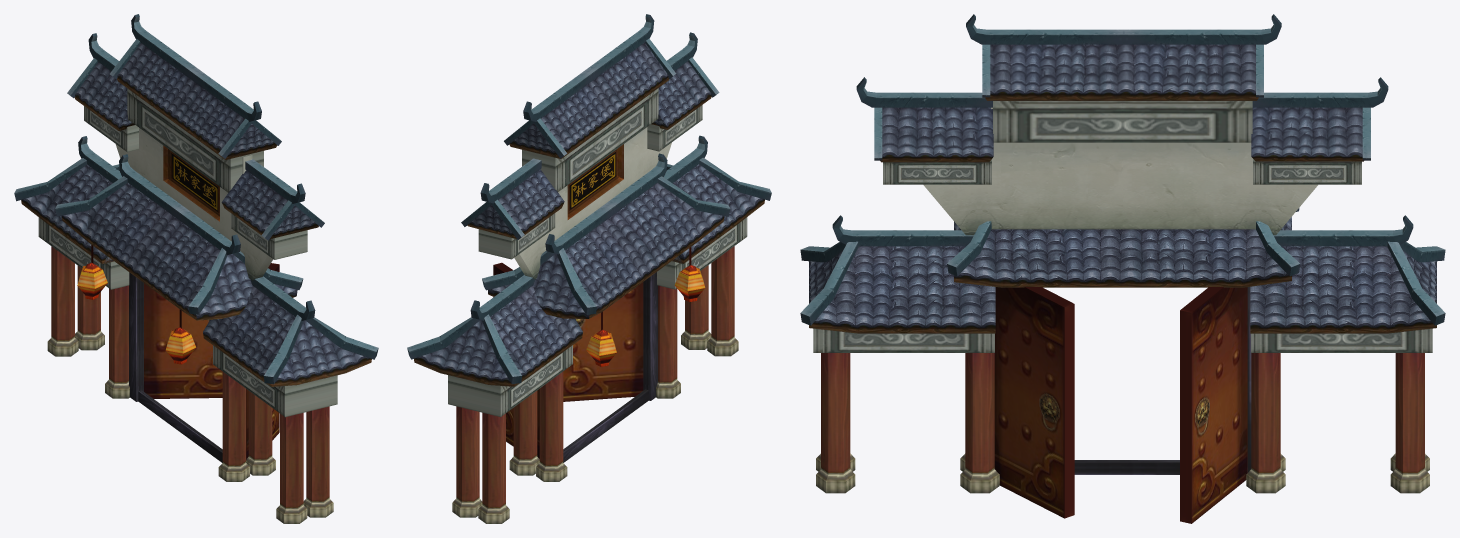
File: szc_building_11a_men.FBX
The picture shows the model from 3 angles, left to right: view 1: azimuth 30°, elevation 25°; view 2: azimuth 150°, elevation 25°; view 3: azimuth 270°, elevation 25°; orthographic projection. The views are drawn at different scales.
Visible parts, largest first — view 1: szc_building_11a_liang; view 2: szc_building_11a_liang; view 3: szc_building_11a_liang.
Boxes of the visible parts, <box> form: szc_building_11a_liang: <box>14,14,378,523</box>; szc_building_11a_liang: <box>407,14,771,523</box>; szc_building_11a_liang: <box>800,14,1445,523</box>.
Size of the model in its own units: 280 by 693 by 869.
